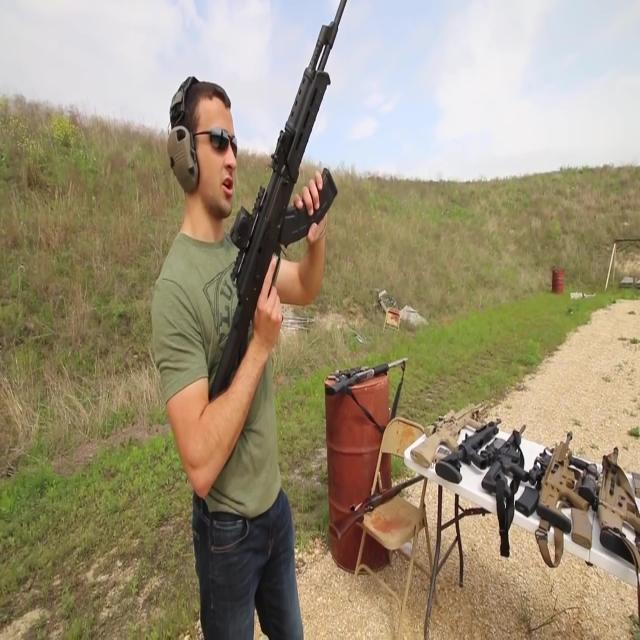Weapon: (202, 0, 334, 444), (401, 372, 640, 579), (316, 455, 460, 549), (313, 324, 418, 418)
